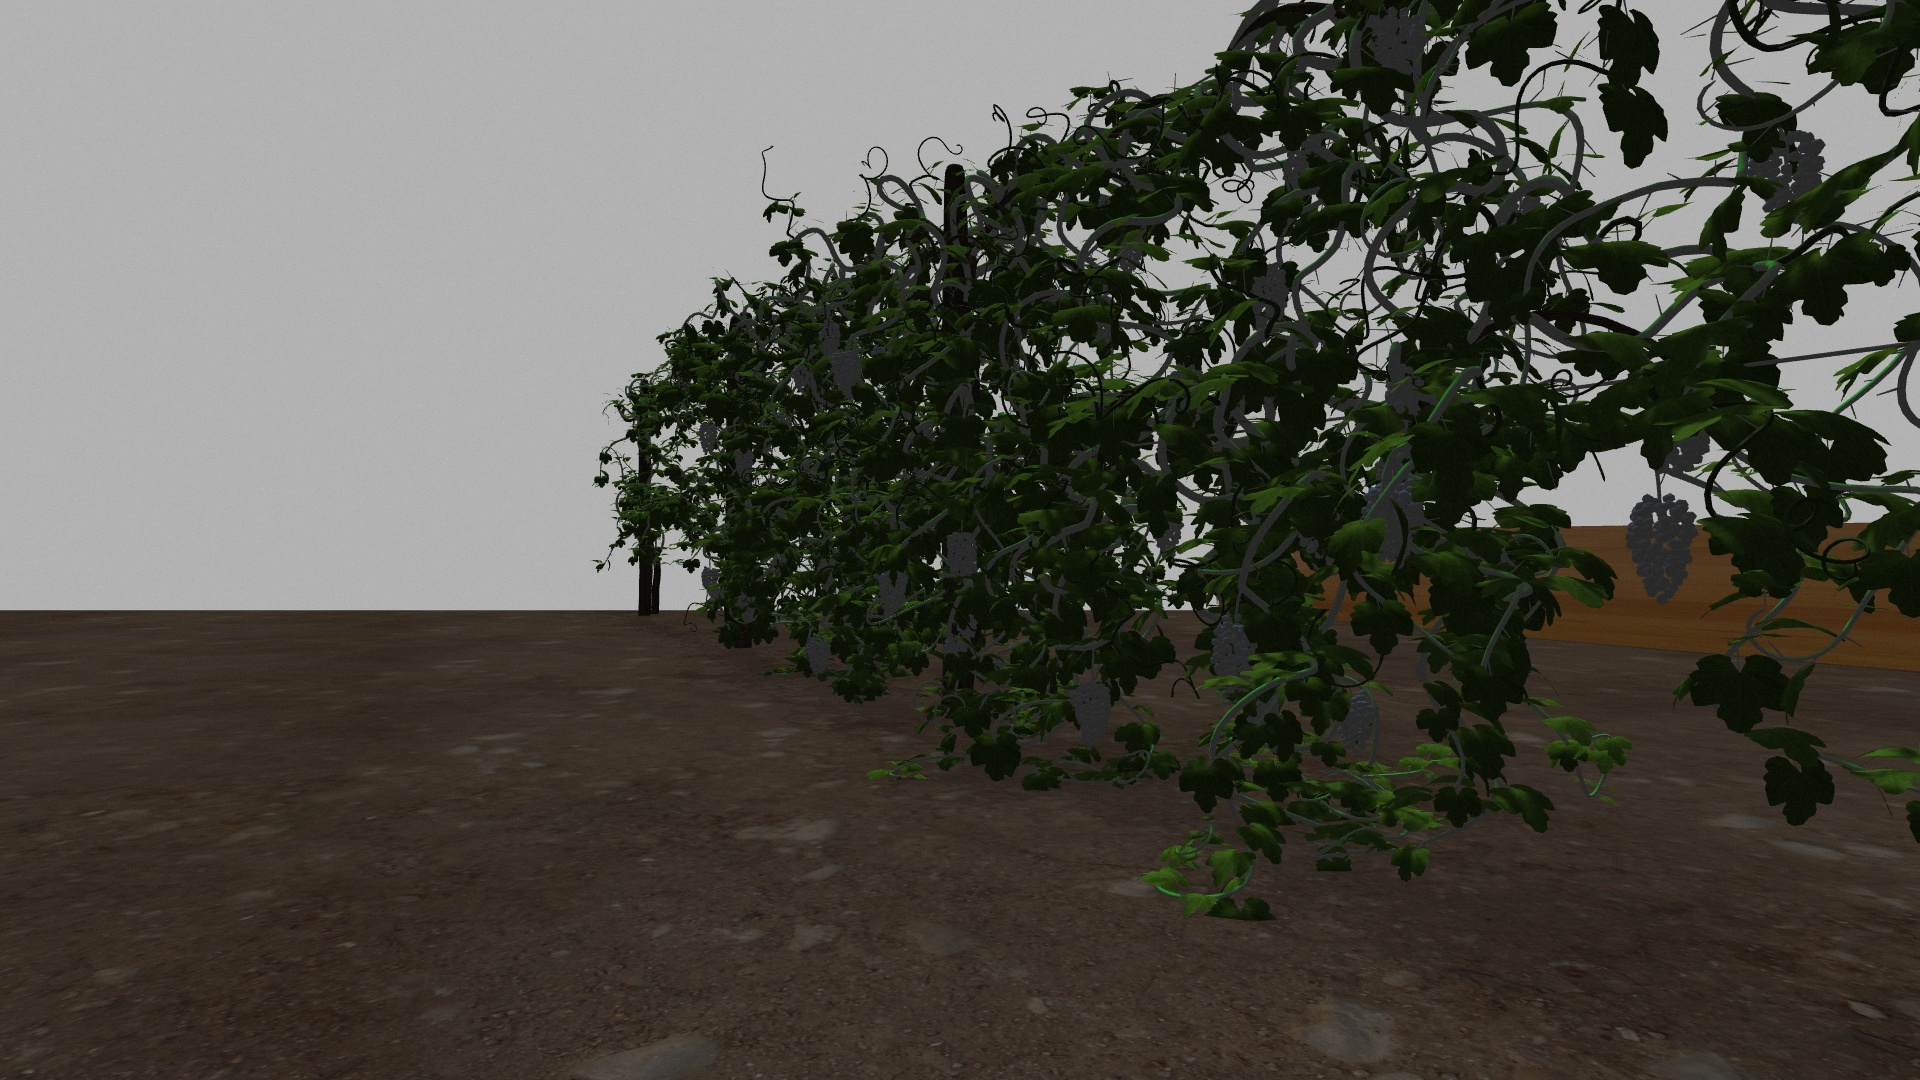grape: (1626, 495, 1700, 603), (1758, 131, 1828, 207), (1364, 483, 1425, 564), (1371, 17, 1436, 76), (1208, 613, 1257, 682), (1335, 690, 1379, 760), (1385, 342, 1425, 415), (1068, 680, 1113, 746), (1249, 261, 1290, 326), (876, 567, 910, 621), (944, 531, 978, 580), (803, 629, 833, 676), (833, 349, 864, 396), (1282, 149, 1309, 186), (818, 320, 841, 363), (733, 447, 756, 483), (816, 556, 836, 593), (698, 421, 717, 454), (957, 613, 978, 642), (700, 566, 720, 593), (942, 636, 969, 655), (738, 593, 756, 624), (793, 364, 811, 390)
